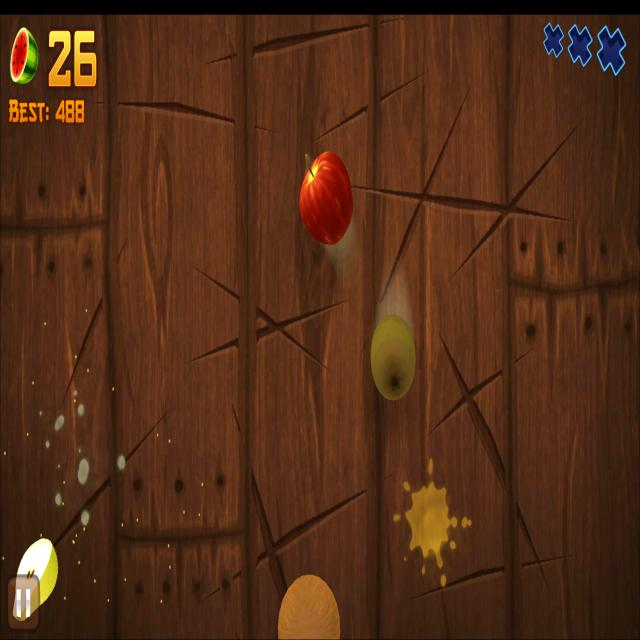fruit: (299, 150, 353, 246), (278, 572, 340, 640), (371, 314, 416, 402)
